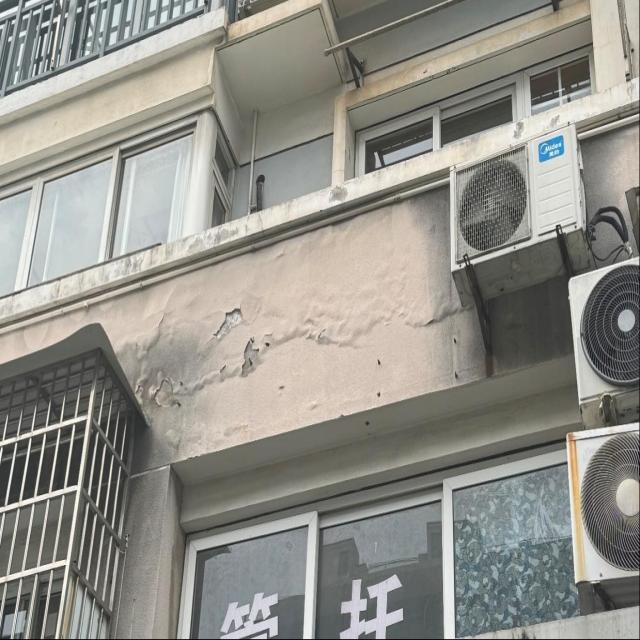hollowing: (133, 257, 473, 417), (194, 277, 279, 355)
mildew: (3, 220, 242, 320), (327, 184, 350, 206), (511, 120, 528, 142)
